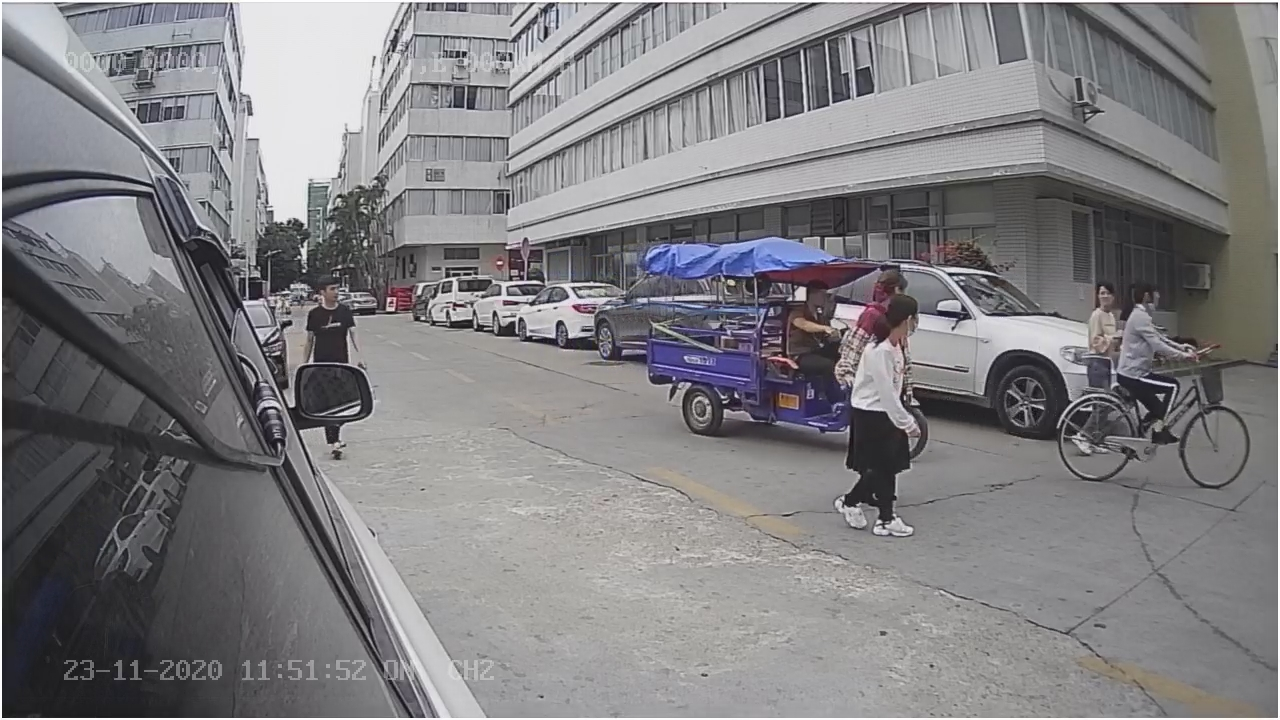person: (828, 298, 934, 538), (1122, 279, 1194, 363)
